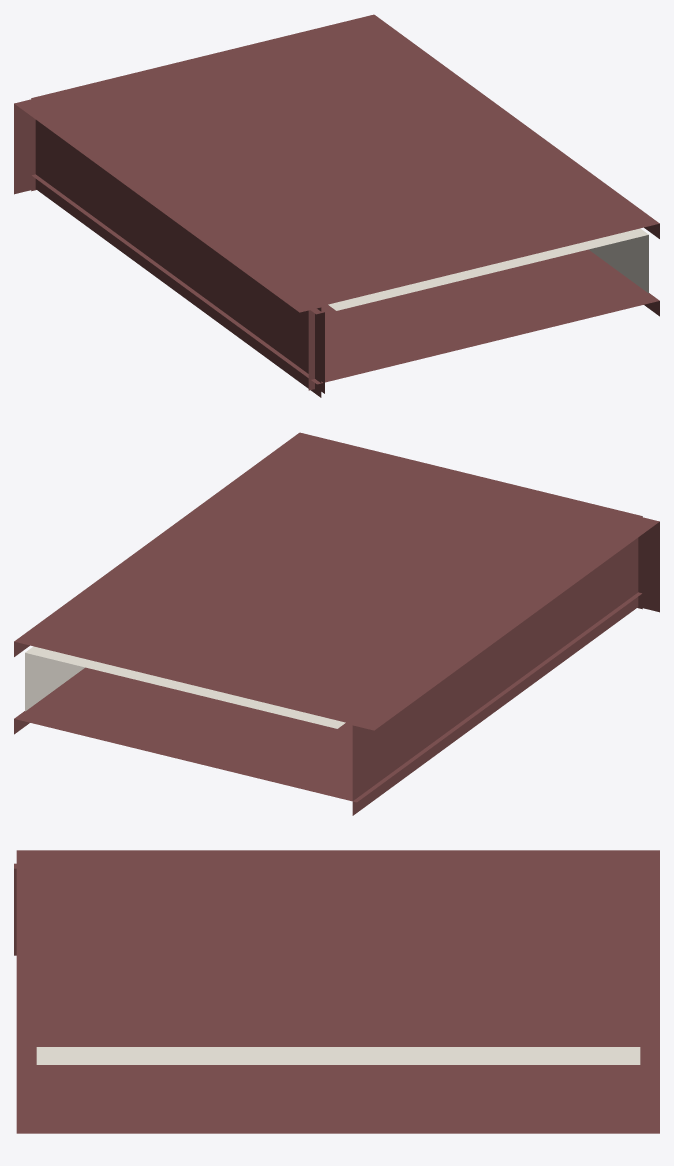
File: hardcover_book.glb
3 views of the same model, one above another, from view 1: azimuth 30°, elevation 25°; view 2: azimuth 150°, elevation 25°; view 3: azimuth 270°, elevation 25° (orthographic). The views are drawn at different scales.
Parts seen in each view (by area): view 1: Cover, Pages; view 2: Cover, Pages; view 3: Cover, Pages.
Part boxes in pixels (left/top/right/bottom): Cover: left=14, top=14, right=659, bottom=397; Pages: left=328, top=228, right=648, bottom=310; Cover: left=14, top=432, right=659, bottom=815; Pages: left=25, top=646, right=345, bottom=728; Cover: left=14, top=850, right=659, bottom=1133; Pages: left=36, top=1047, right=640, bottom=1064.
Size of the model in its own units: 0.166 by 0.041 by 0.229.
